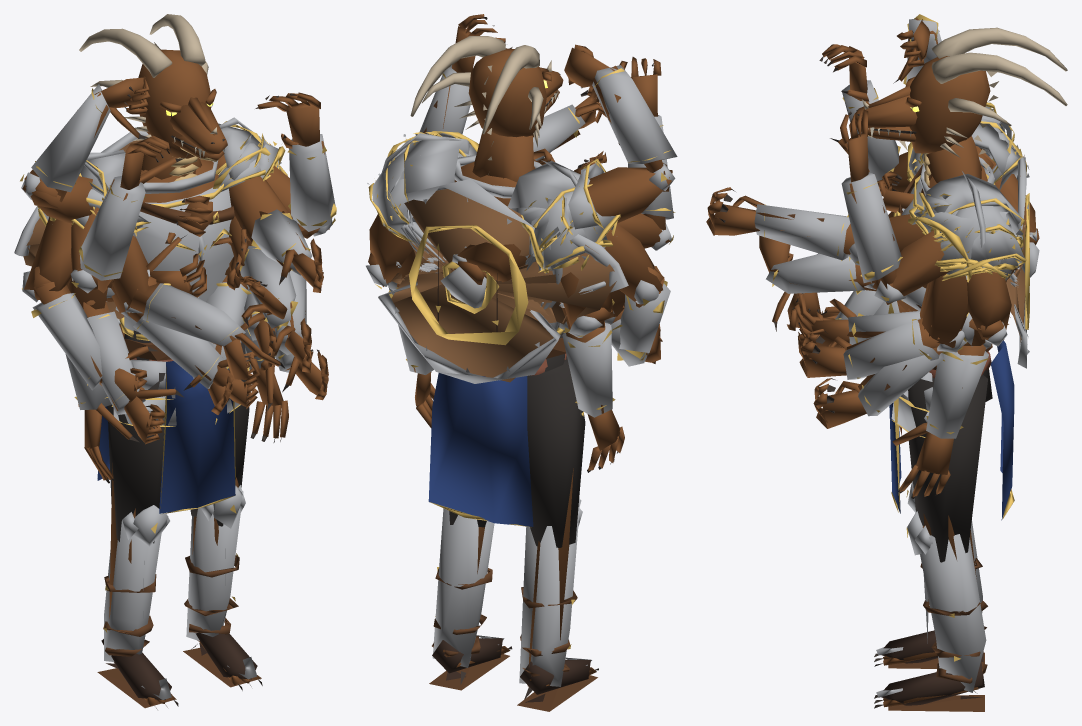
Rendered from human_heavy.glb.
3 views of the same model, side by side, from view 1: azimuth 30°, elevation 25°; view 2: azimuth 150°, elevation 25°; view 3: azimuth 270°, elevation 25° (orthographic). The views are drawn at different scales.
Parts seen in each view (by area): view 1: B_7d, B_5d, B_0d, B_8d, R.cast_38d, R.raised_23d, R.xbowR_48d, L.cast_83d, R.staffR_33d, R.staffR_30d, R.twoR_43d, B_6d (+37 smaller); view 2: B_7d, B_9d, B_5d, B_0d, B_6d, B_8d, R.raised_23d, R.raised_24, R.rest_13d, R.raised_20d, R.staffR_33d, R.staffR_30d (+23 smaller); view 3: B_7d, B_0d, B_8d, B_6d, L.cast_83d, B_5d, L.bowArm_68d, L.rest_58d, L.shield_63d, L.xbowL_78d, L.shield_60d, B_9d (+25 smaller).
Boxes of the visible parts, x1,y1,x2,y2 form: B_7d: (103, 330, 250, 661); B_5d: (97, 160, 235, 513); B_0d: (79, 14, 227, 182); B_8d: (97, 618, 261, 708); R.cast_38d: (70, 176, 145, 293); R.raised_23d: (20, 84, 110, 199); R.xbowR_48d: (124, 283, 245, 346); L.cast_83d: (287, 134, 336, 236); R.staffR_33d: (22, 271, 102, 390); R.staffR_30d: (24, 216, 102, 377); R.twoR_43d: (115, 306, 224, 388); B_6d: (79, 117, 268, 210); B_7d: (432, 324, 585, 686); B_9d: (378, 179, 560, 383); B_5d: (428, 155, 565, 527); B_0d: (410, 36, 563, 182); B_6d: (381, 133, 605, 248); B_8d: (429, 635, 597, 711); R.raised_23d: (592, 65, 677, 190); R.raised_24: (486, 233, 628, 318); R.rest_13d: (559, 321, 615, 417); R.raised_20d: (587, 65, 672, 223); R.staffR_33d: (615, 280, 670, 358); R.staffR_30d: (604, 224, 664, 356); B_7d: (891, 368, 992, 692); B_0d: (853, 27, 1067, 185); B_8d: (876, 626, 987, 711); B_6d: (921, 121, 1025, 267); L.cast_83d: (841, 172, 905, 303); B_5d: (889, 157, 1014, 520); L.bowArm_68d: (754, 204, 859, 265); L.rest_58d: (926, 341, 991, 438); L.shield_63d: (843, 318, 964, 379); L.xbowL_78d: (766, 253, 875, 294); L.shield_60d: (846, 273, 968, 349); B_9d: (1006, 155, 1039, 368).
Bounding box in the file's own units: 0.9045 × 1.91 × 0.9729.
